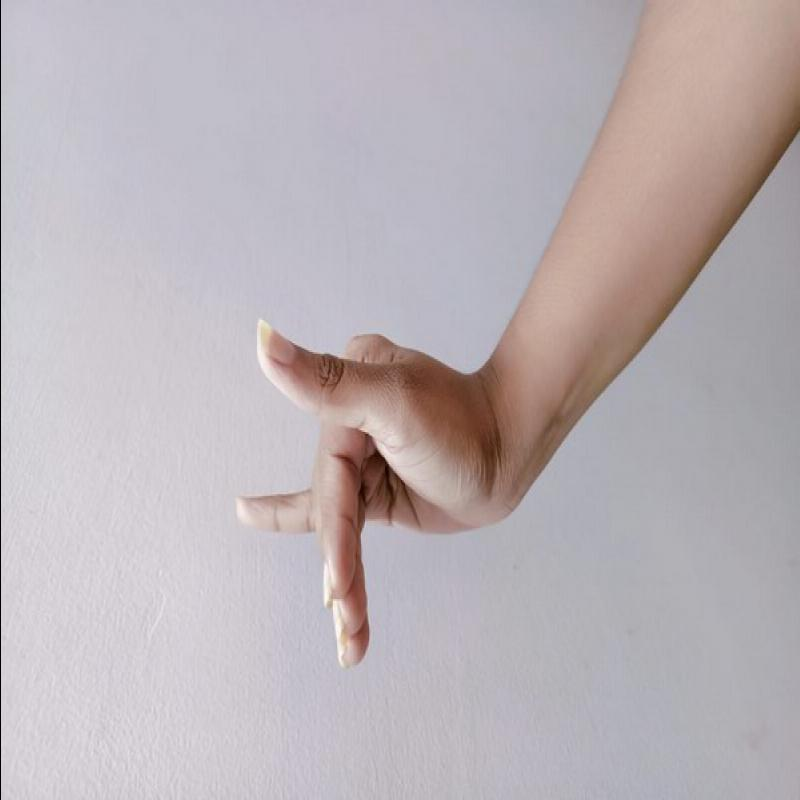Kartharee Mukham: (201, 306, 509, 686)
